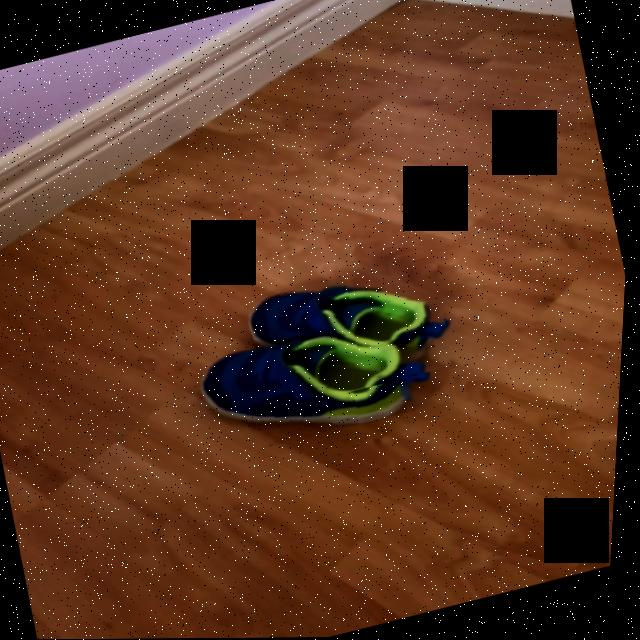shoe: (205, 328, 446, 428), (254, 286, 451, 376)
